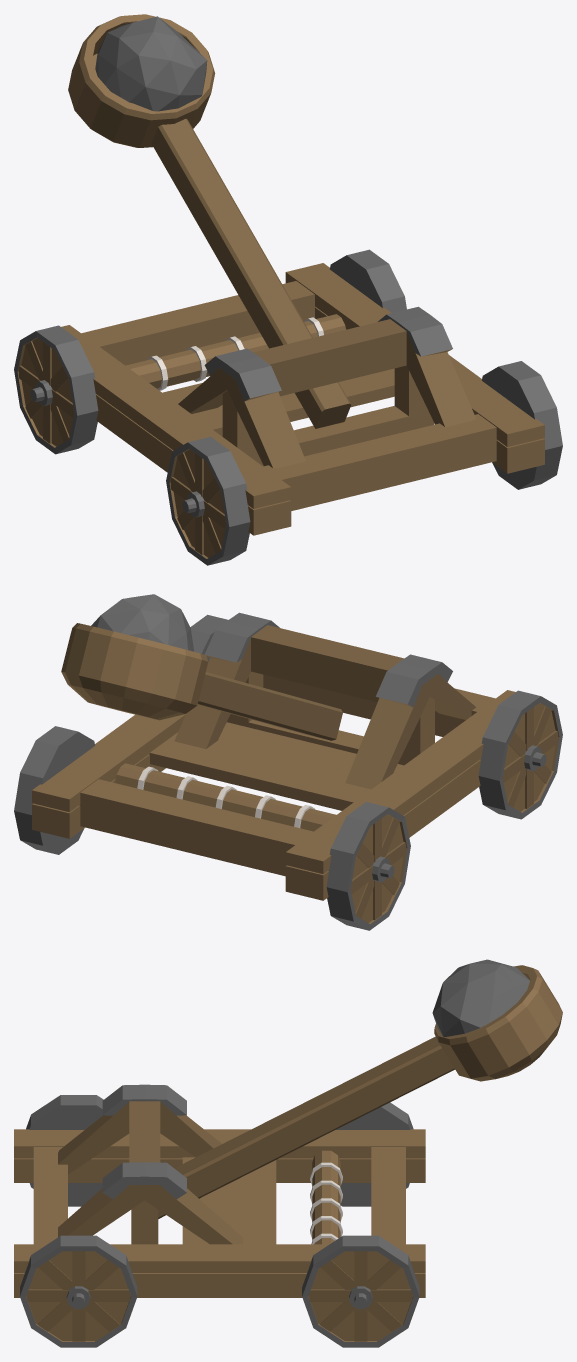
Rendered from catapulta.fbx.
The picture shows the model from 3 angles, top to bottom: view 1: azimuth 30°, elevation 25°; view 2: azimuth 150°, elevation 25°; view 3: azimuth 270°, elevation 25°; orthographic projection. The views are drawn at different scales.
Visible parts, largest first — view 1: Cube.004, Cylinder, Cube.001, Cube.002, Cube.005, Icosphere, Cylinder.002, Cube.007, Cube.006, Cube, Cylinder.003, Cube.003 (+1 smaller); view 2: Cube.004, Cylinder, Cube.001, Cube.002, Cube.003, Cylinder.002, Cube.005, Cylinder.003, Cube, Cube.006, Icosphere, Cube.007 (+1 smaller); view 3: Cylinder, Cube.004, Cube.002, Cube.005, Cube, Cube.006, Cylinder.002, Cube.001, Icosphere, Cube.003, Cylinder.003, Cube.007 (+1 smaller).
Part boxes in pixels (x1,y1,x2,y2): Cube.004: (178,306,476,468); Cylinder: (14,249,562,565); Cube.001: (81,281,497,510); Cube.002: (61,263,544,508); Cube.005: (151,119,351,428); Icosphere: (95,16,207,111); Cylinder.002: (68,14,215,147); Cube.007: (222,365,434,466); Cube.006: (18,341,226,554); Cube: (96,307,544,535); Cylinder.003: (125,314,346,390); Cube.003: (162,368,394,436); Cube.004: (174,612,475,789); Cylinder: (14,614,562,930); Cube.001: (79,674,495,876); Cube.002: (32,690,515,873); Cube.003: (149,722,403,810); Cylinder.002: (61,623,208,720); Cube.005: (197,672,342,740); Cylinder.003: (115,763,336,831); Cube: (32,754,480,900); Cube.006: (350,706,558,920); Icosphere: (91,594,193,651); Cube.007: (227,671,434,765); Cylinder: (20,1095,419,1347); Cube.004: (58,1084,243,1244); Cube.002: (14,1129,425,1272); Cube.005: (158,1036,454,1218); Cube: (14,1158,425,1297); Cube.006: (27,1251,412,1341); Cylinder.002: (434,965,562,1081); Cube.001: (33,1147,405,1244); Icosphere: (432,959,529,1037); Cube.003: (182,1157,276,1244); Cylinder.003: (310,1150,342,1244); Cube.007: (131,1200,158,1244).
Bounding box in the file's own units: 366 × 325 × 523.
